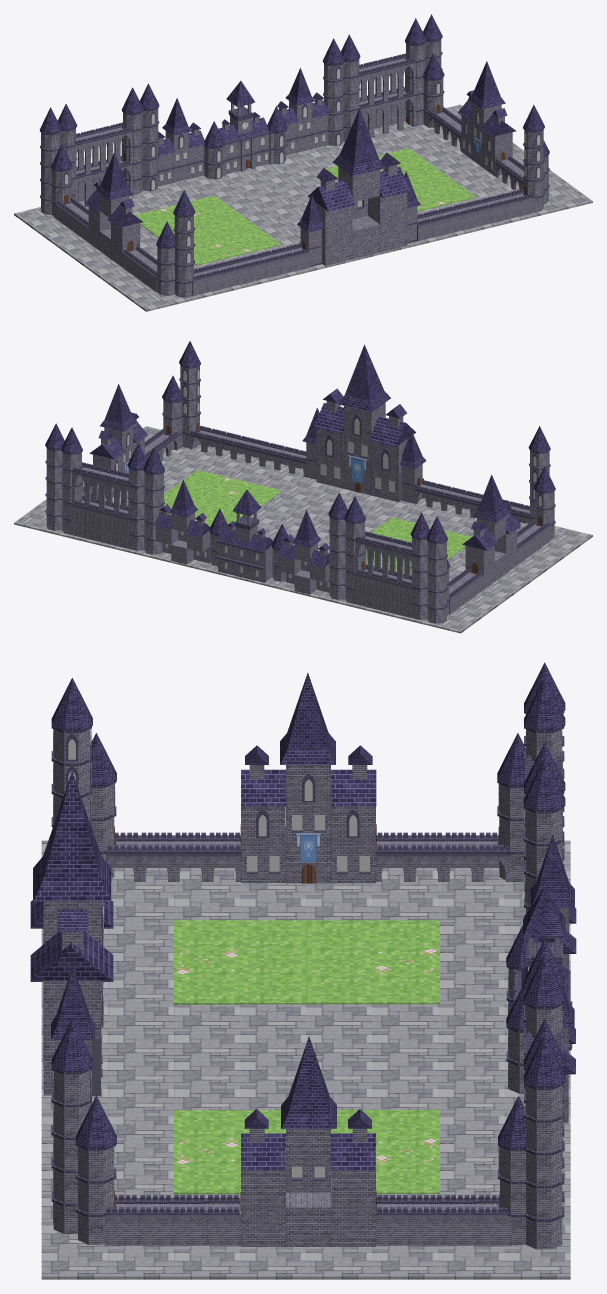
The model's file is Escenario.fbx.
3 renders of one model, top to bottom at view 1: azimuth 30°, elevation 25°; view 2: azimuth 150°, elevation 25°; view 3: azimuth 270°, elevation 25°, orthographic. The views are drawn at different scales.
Visible parts, largest first — view 1: Piso132, Cono_Torre52, Pasto8, Cono_Torre51, Cono_Torre56, Muralla, Pasto9, Cono_Torre48, Torre_Cono, Cono_Torre41, Muro76, Muro73 (+22 smaller); view 2: Piso132, Cono_Torre52, Muralla, Cono_Torre51, Pasto9, Cono_Torre56, Cono_Torre39, Cono_Torre41, Cono_Torre33, Torre_Cono, Cono_Torre25, Cono_Torre38 (+22 smaller); view 3: Piso132, Pasto8, Cono_Torre56, Cono_Torre51, Cono_Torre52, Pasto9, Cono_Torre33, Muro65, Muro63, Cono_Torre49, Muro68, Muro66 (+14 smaller).
Part boxes in pixels (x1,y1,x2,y2): Piso132: (14, 104, 592, 311); Cono_Torre52: (308, 108, 410, 265); Pasto8: (135, 195, 281, 265); Cono_Torre51: (85, 152, 143, 266); Cono_Torre56: (457, 61, 516, 176); Muralla: (74, 122, 135, 206); Pasto9: (325, 148, 475, 211); Cono_Torre48: (173, 190, 195, 297); Torre_Cono: (140, 83, 159, 191); Cono_Torre41: (322, 38, 344, 145); Muro76: (242, 243, 310, 281); Muro73: (467, 189, 535, 226); Piso132: (14, 426, 592, 633); Cono_Torre52: (313, 344, 415, 501); Muralla: (354, 531, 420, 618); Cono_Torre51: (462, 474, 520, 589); Pasto9: (164, 470, 281, 526); Cono_Torre56: (89, 384, 147, 497); Cono_Torre39: (426, 516, 447, 623); Cono_Torre41: (143, 447, 164, 554); Cono_Torre33: (45, 423, 64, 530); Torre_Cono: (328, 492, 347, 599); Cono_Torre25: (127, 443, 146, 550); Cono_Torre38: (410, 512, 429, 619); Piso132: (41, 840, 570, 1279); Pasto8: (173, 920, 439, 1004); Cono_Torre56: (241, 1036, 376, 1246); Cono_Torre51: (241, 672, 376, 883); Cono_Torre52: (30, 771, 113, 1095); Pasto9: (173, 1110, 439, 1194); Cono_Torre33: (524, 1034, 565, 1249); Muro65: (104, 1195, 240, 1245); Muro63: (376, 1195, 511, 1245); Cono_Torre49: (51, 1019, 92, 1233); Muro68: (105, 832, 240, 881); Muro66: (376, 832, 511, 881).
Size of the model in its own units: 117 by 36.16 by 61.79.
